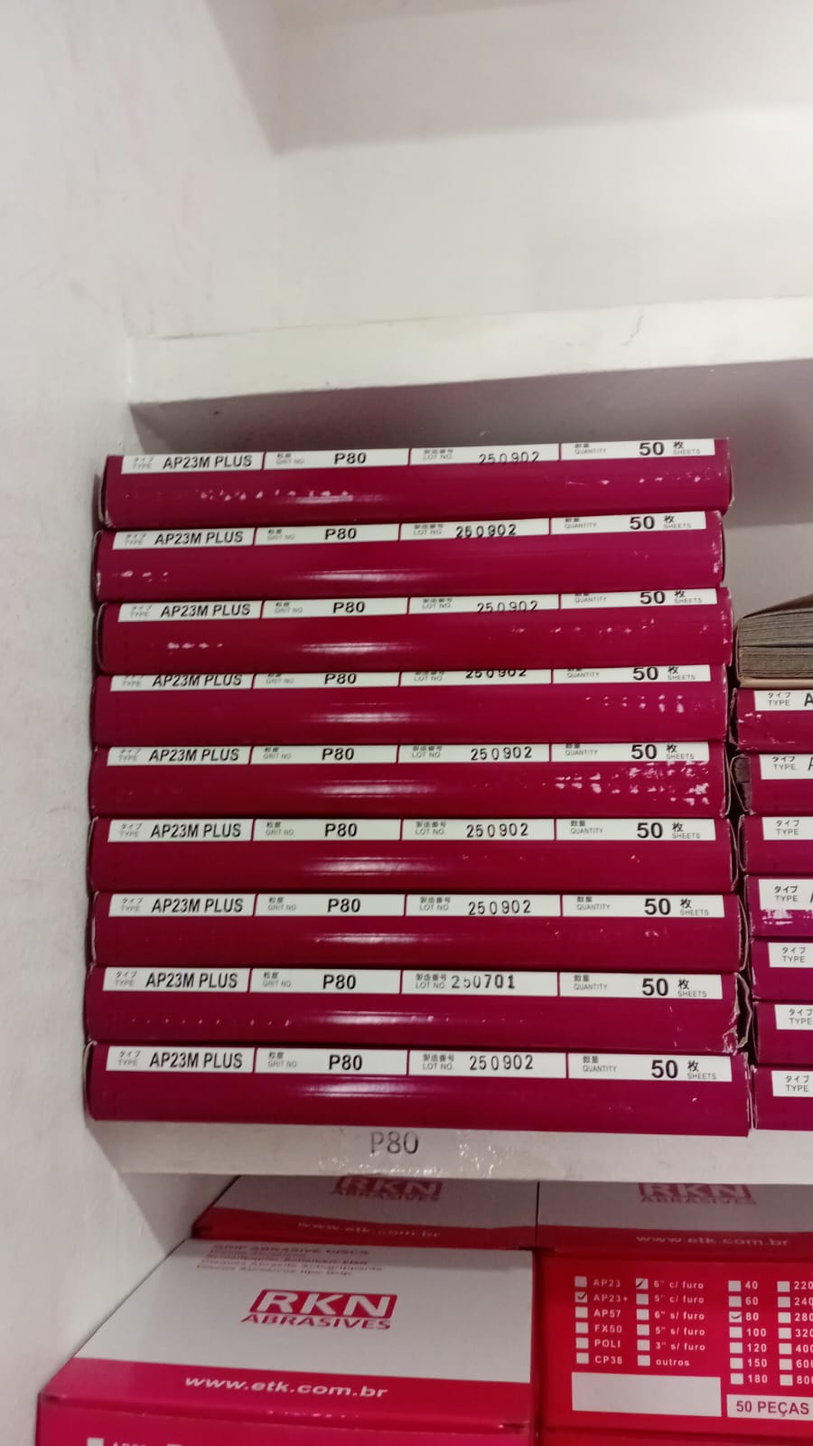grao: (248, 960, 402, 1002), (257, 1040, 409, 1080), (254, 886, 405, 925), (252, 811, 402, 849), (252, 661, 401, 698), (250, 741, 398, 774), (255, 516, 401, 549), (260, 593, 410, 625), (262, 440, 410, 472)
objects: (51, 407, 766, 1160)
